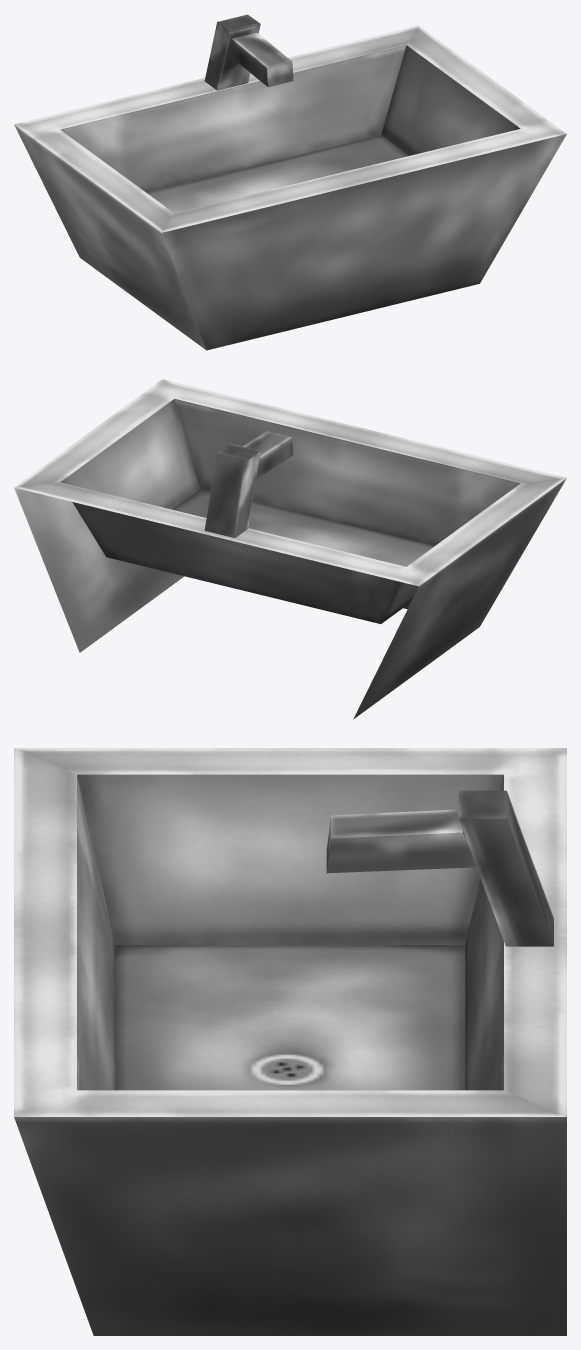
File: Sink.FBX
The picture shows the model from 3 angles, top to bottom: view 1: azimuth 30°, elevation 25°; view 2: azimuth 150°, elevation 25°; view 3: azimuth 270°, elevation 25°; orthographic projection. The views are drawn at different scales.
Visible parts, largest first — view 1: Sink; view 2: Sink; view 3: Sink.
Boxes of the visible parts, bbox=[...] form: Sink: bbox=[14, 14, 566, 350]; Sink: bbox=[14, 379, 566, 719]; Sink: bbox=[14, 748, 566, 1335].
Size of the model in its own units: 76.07 by 39.12 by 48.2.
